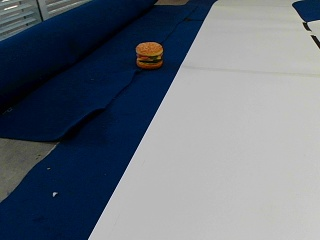burger: (135, 40, 163, 67)
